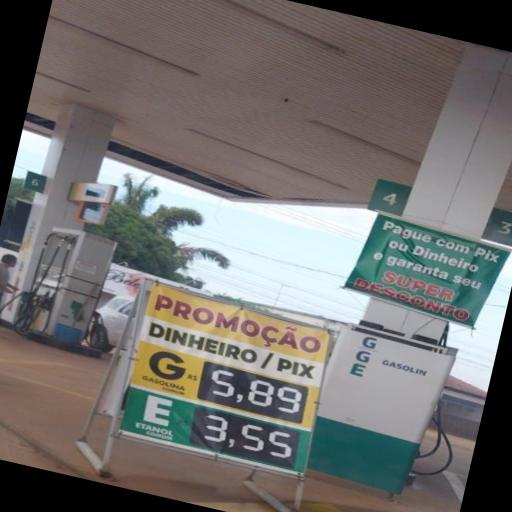ETANOL: (124, 390, 191, 442)
GASOLINA C: (132, 341, 203, 397)
placa: (118, 283, 330, 474)
preco: (205, 362, 309, 424), (197, 406, 301, 467)
